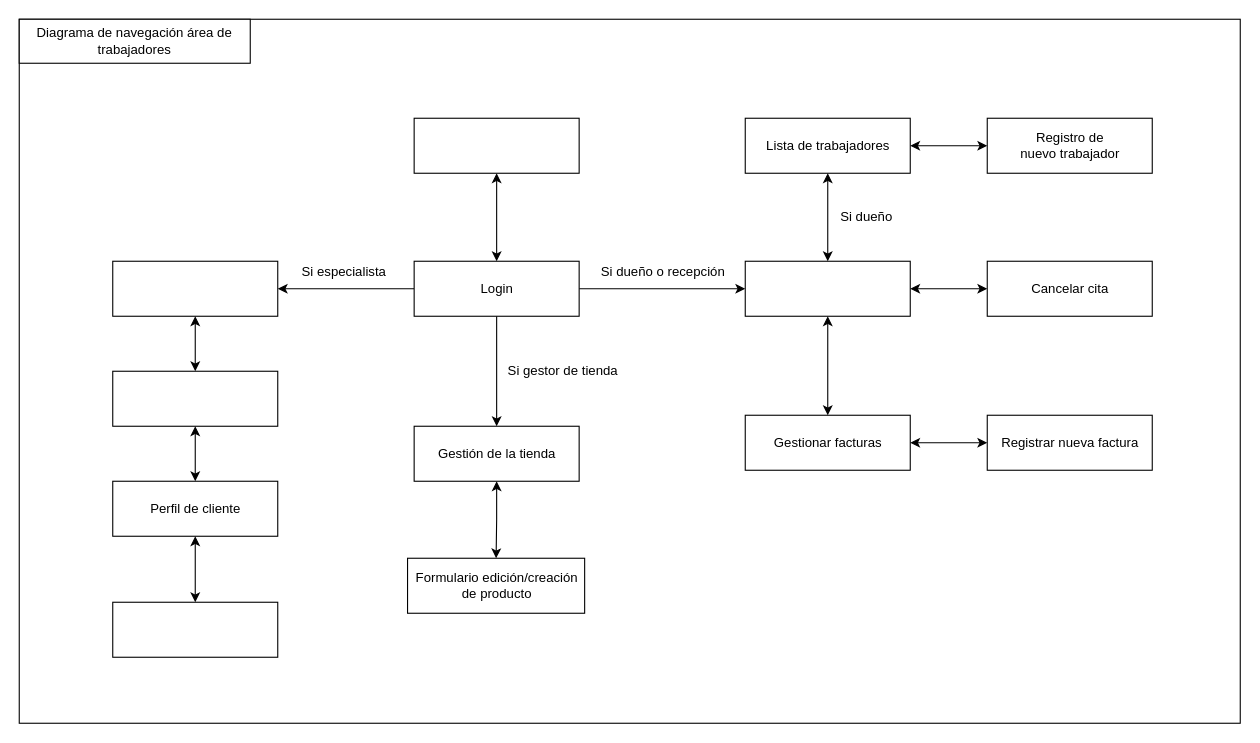
This 1260x743 diagram has some shape labels left out. The centre of each missing label's shape, as x and y in pixels:
"Calendario de citas" belongs at (x=195, y=288).
"Calendario de todas las citas" belongs at (x=827, y=288).
"Lista de clientes" belongs at (x=195, y=398).
"Página de bienvenida" belongs at (x=496, y=145).
"Tratamiento de cliente" belongs at (x=195, y=629).
